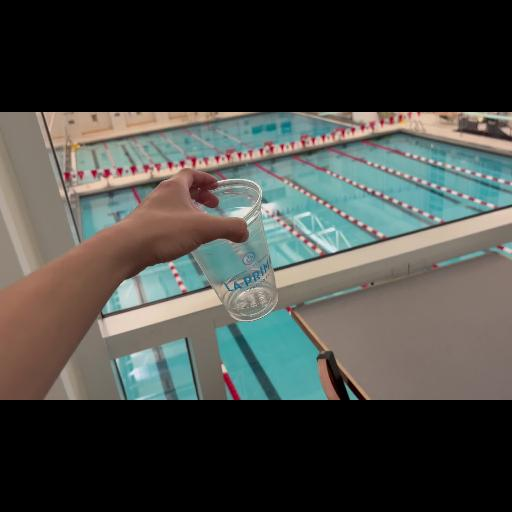lp_plastic_cup: (168, 169, 288, 339)
